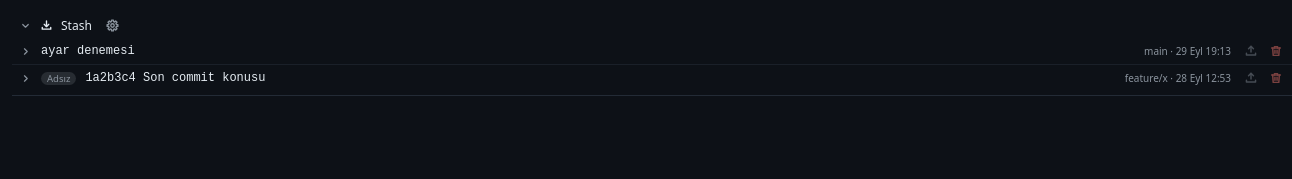
Test case: uygulama › hata: git'in metni KALICI kutuda, stash listede duruyor
Step 1. Click the 1st button named "Uygula (stash listede kalır)" → (1251, 51), box [1239,40,1263,62]
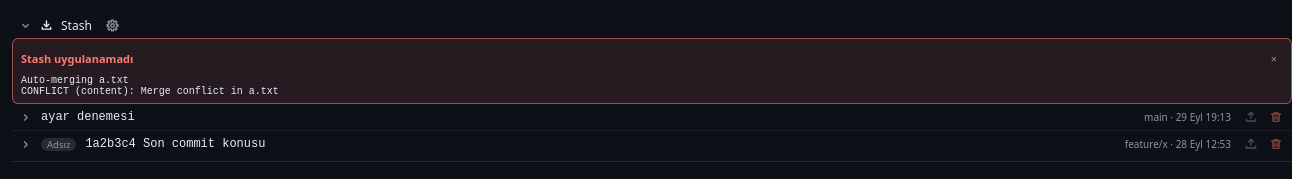
Expected: the message with class "git-commit-error" shows "Stash uygulanamadı", [21,50,133,66]
